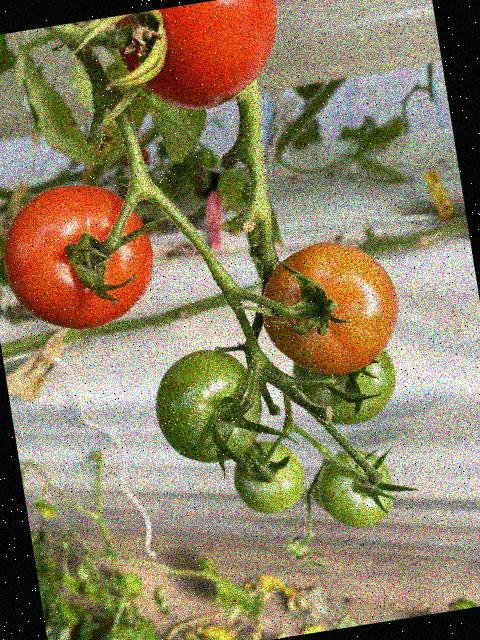l_fully_ripened: (0, 172, 164, 340), (111, 0, 291, 122)
l_green: (147, 341, 270, 471), (289, 345, 403, 433), (311, 443, 398, 533), (228, 435, 309, 520)
l_half_ripened: (253, 231, 409, 385)
